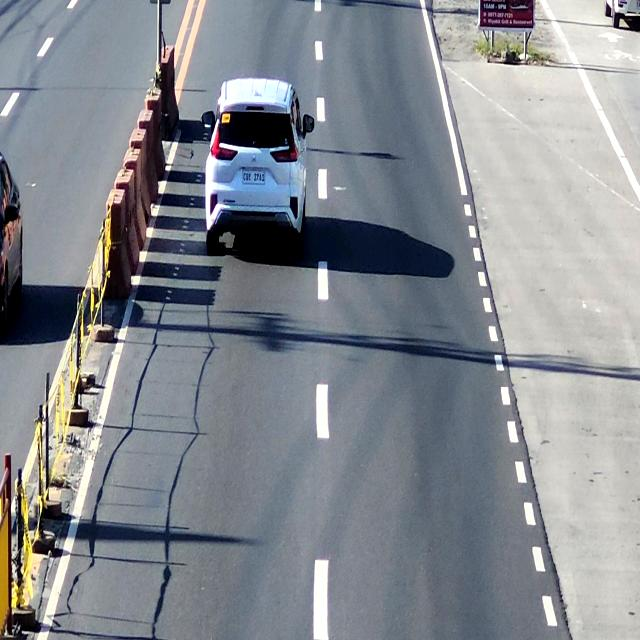Car: (204, 80, 306, 252)
License-Plate: (240, 162, 267, 185)
